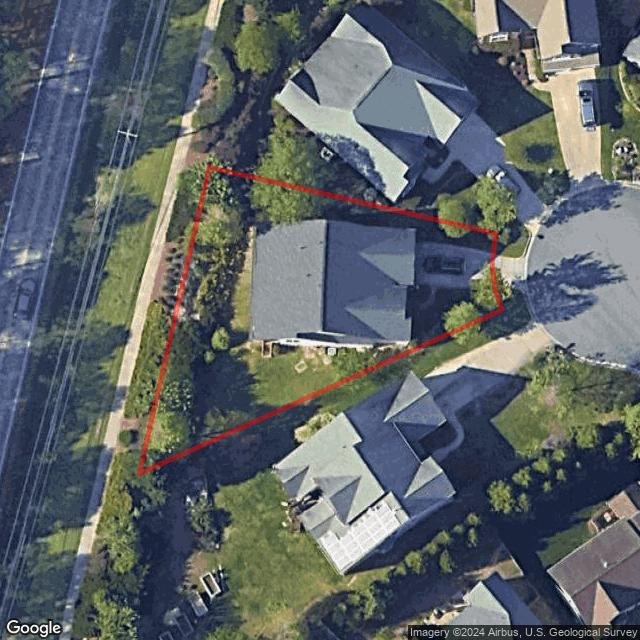Driveway: (415, 242, 494, 290)
Extra-Driveway: (491, 252, 523, 291)
Extra-Lawn: (493, 234, 527, 258), (493, 290, 525, 310)
House: (250, 218, 416, 344)
Lawn: (141, 168, 502, 471)
Other: (141, 167, 254, 471)
Sidewalk: (405, 285, 438, 312)
